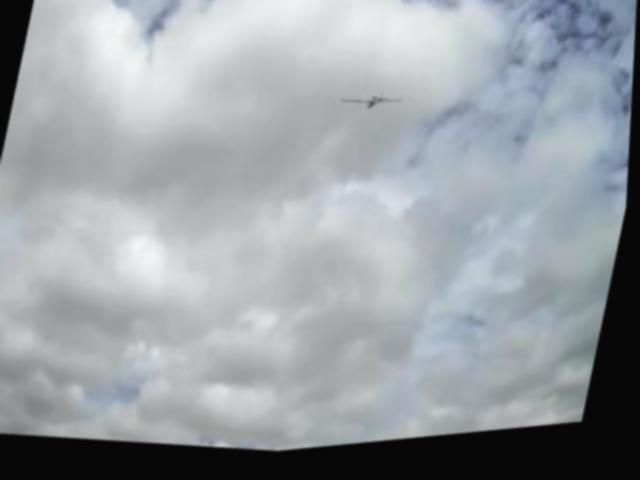uav: (333, 84, 413, 132)
